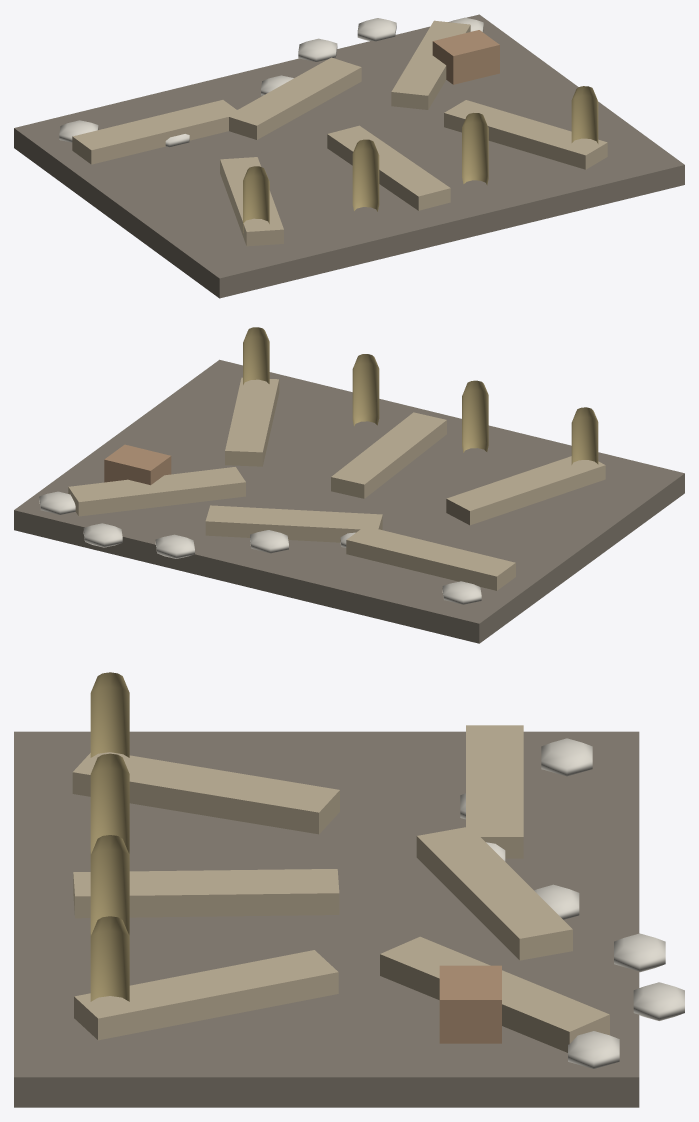
File: DebrisFieldTile.glb
The picture shows the model from 3 angles, top to bottom: view 1: azimuth 30°, elevation 25°; view 2: azimuth 150°, elevation 25°; view 3: azimuth 270°, elevation 25°; orthographic projection. The views are drawn at different scales.
Visible parts, largest first — view 1: debris-field-tile; view 2: debris-field-tile; view 3: debris-field-tile.
Part boxes in pixels (x1,y1,x2,y2): debris-field-tile: (14,14,684,298); debris-field-tile: (14,327,684,643); debris-field-tile: (14,672,684,1107).
Size of the model in its own units: 3.4 by 0.6199 by 2.79.
